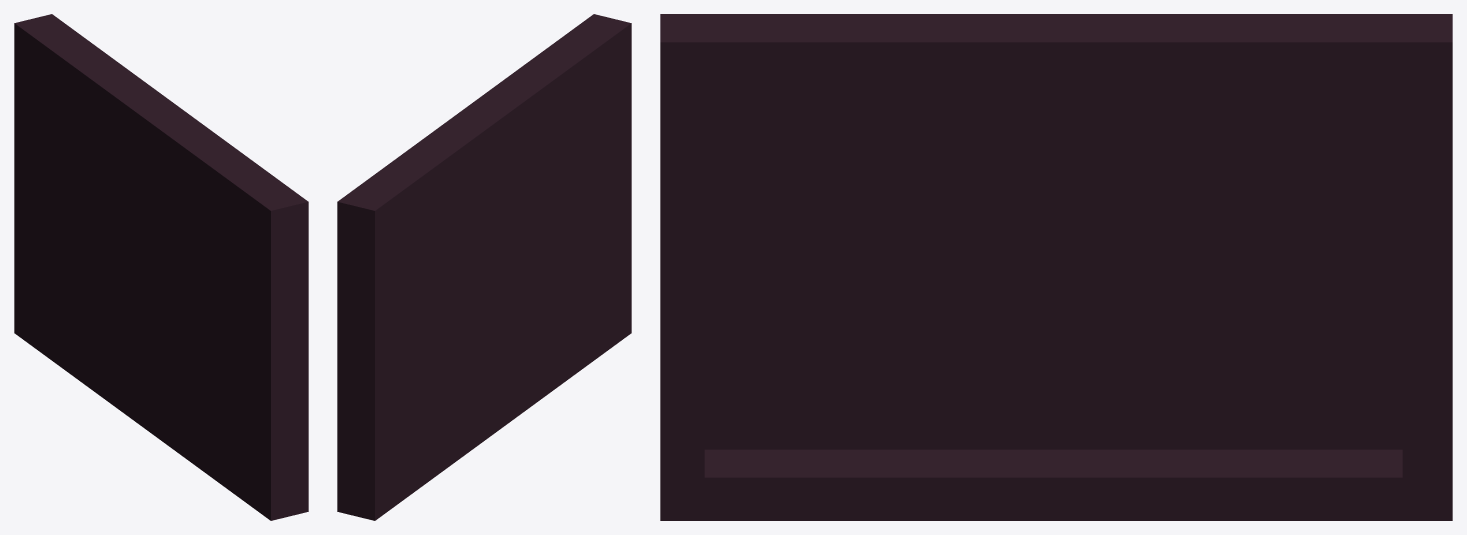
Rendered from Mapa Vias.fbx.
The picture shows the model from 3 angles, left to right: view 1: azimuth 30°, elevation 25°; view 2: azimuth 150°, elevation 25°; view 3: azimuth 270°, elevation 25°; orthographic projection. The views are drawn at different scales.
Visible parts, largest first — view 1: Cube; view 2: Cube; view 3: Cube.
Part boxes in pixels (x1,y1,x2,y2): Cube: (14,14,308,520); Cube: (337,14,631,520); Cube: (660,14,1452,520).
Bounding box in the file's own units: 12.72 × 100 × 150.
